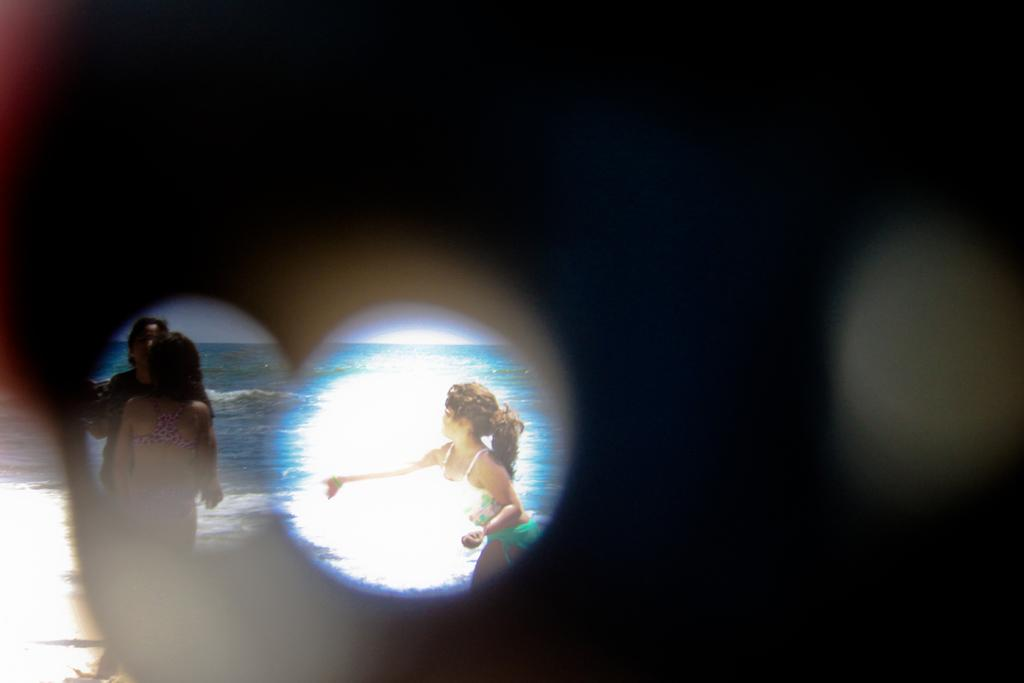Sem Máscara: (133, 326, 155, 367), (439, 404, 455, 438)
